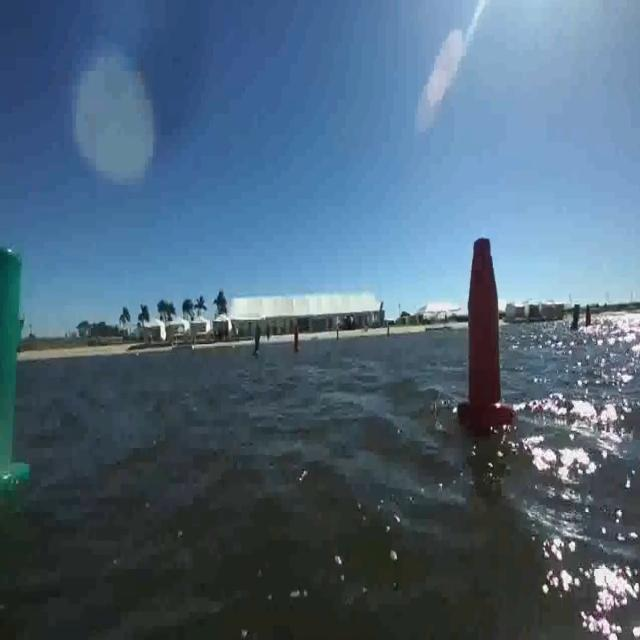green-column-buoy: (0, 242, 31, 490), (250, 325, 263, 359), (568, 303, 582, 334)
red-column-buoy: (461, 232, 516, 433), (584, 305, 595, 332), (291, 327, 300, 355)
